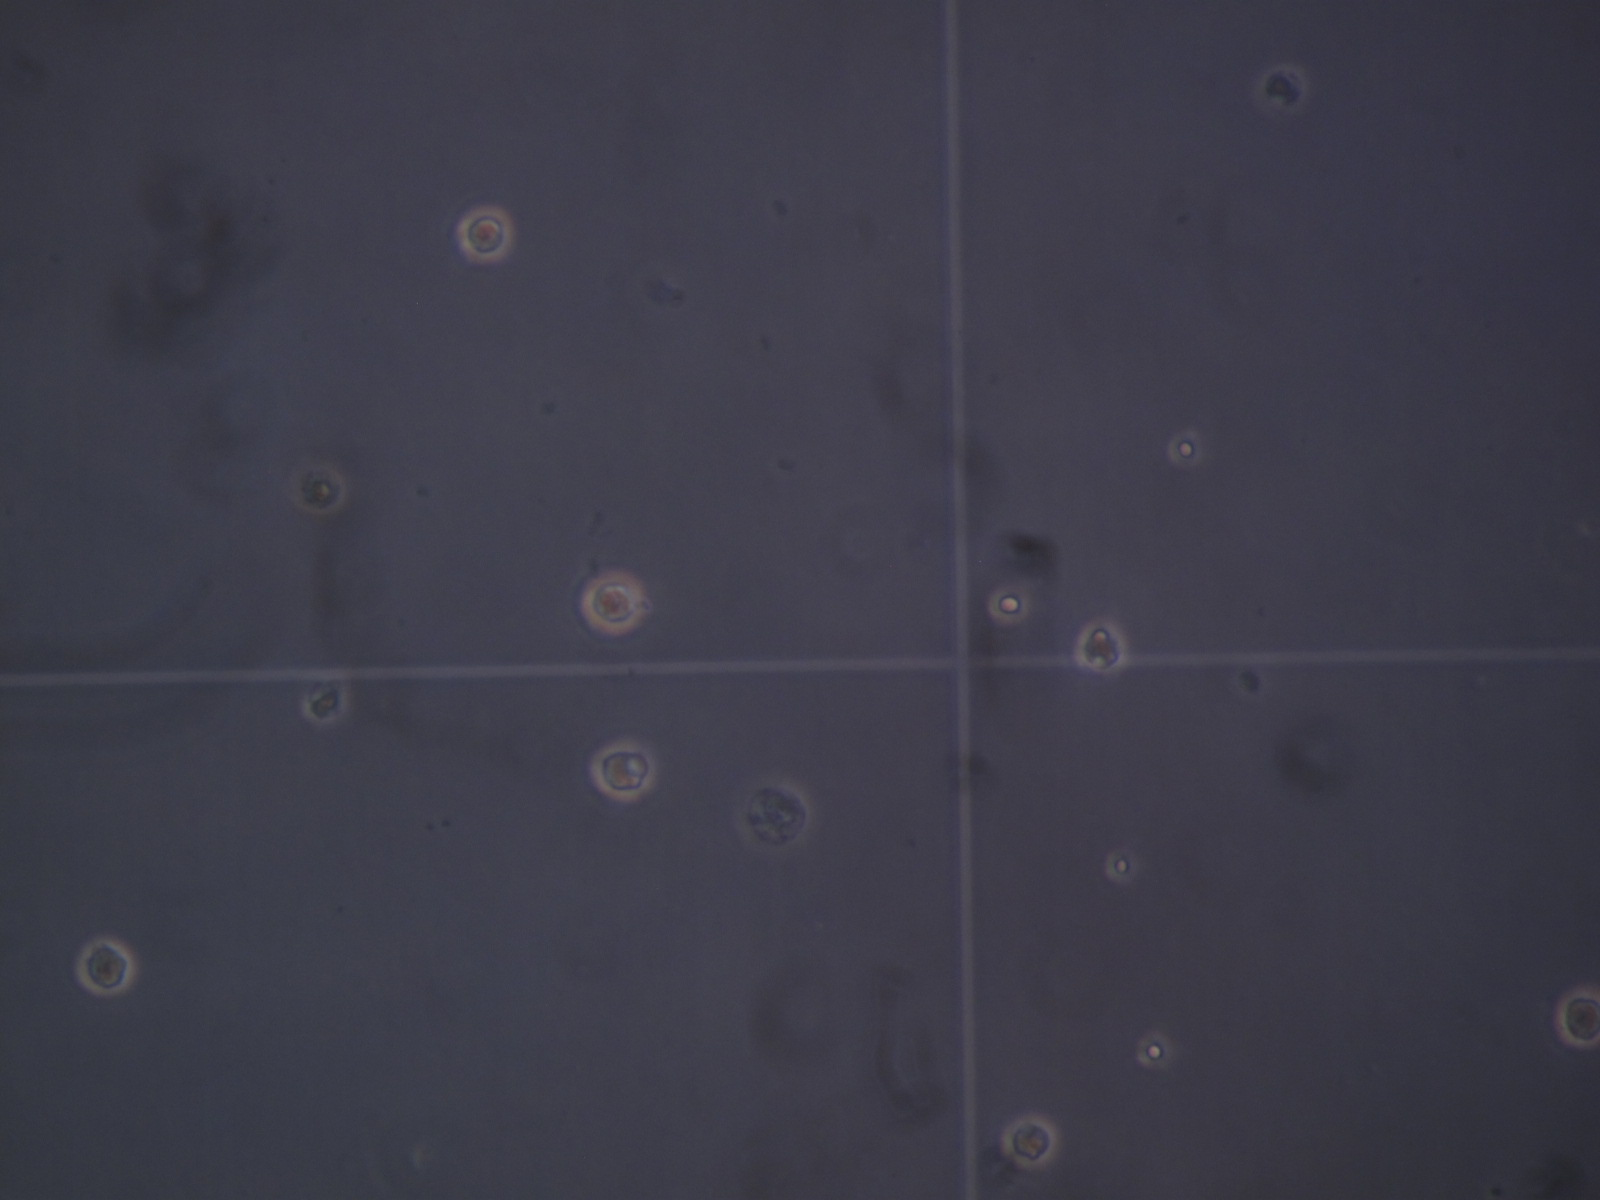hemo: (741, 778, 811, 850), (581, 570, 644, 634), (590, 740, 656, 800), (76, 937, 134, 996), (456, 205, 511, 262), (1002, 1116, 1057, 1168), (1556, 987, 1600, 1047), (295, 464, 346, 514), (1075, 621, 1126, 672), (1259, 64, 1308, 110)
